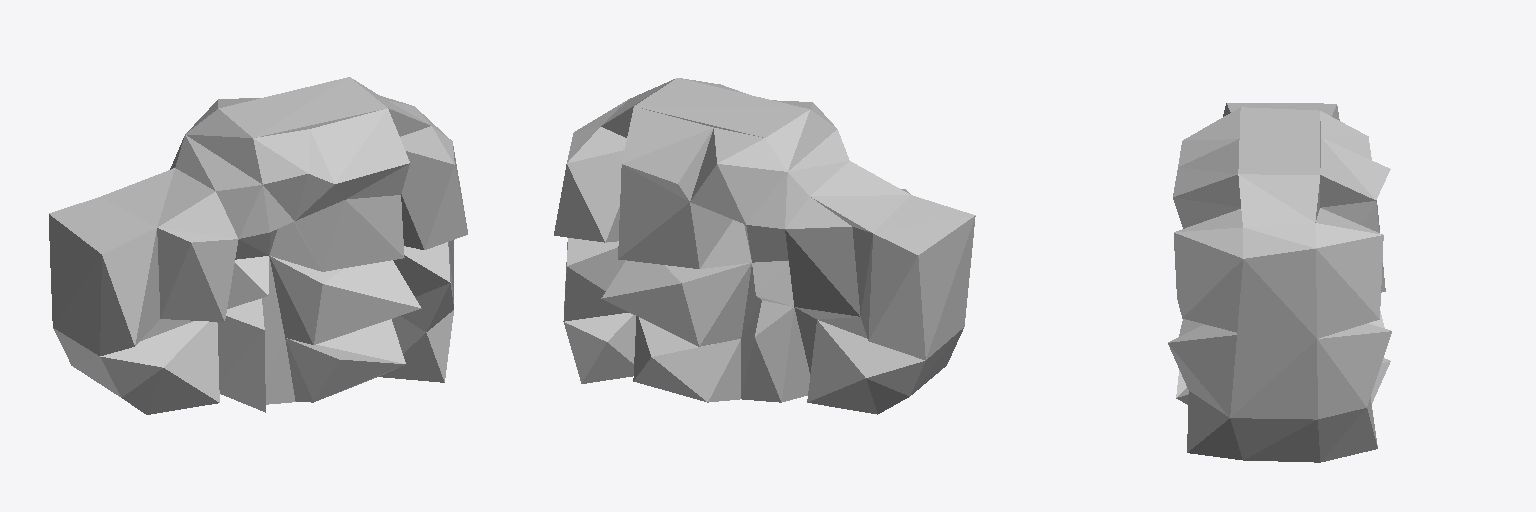
3 renders of one model, left to right at view 1: azimuth 30°, elevation 25°; view 2: azimuth 150°, elevation 25°; view 3: azimuth 270°, elevation 25°, orthographic.
Visible parts, largest first — view 1: unknown; view 2: unknown; view 3: unknown.
Part boxes in pixels (bbox=[...]): unknown: bbox=[49, 77, 467, 414]; unknown: bbox=[554, 78, 975, 414]; unknown: bbox=[1168, 103, 1391, 462].
Bounding box in the file's own units: 0.7178 × 0.5224 × 0.3869.